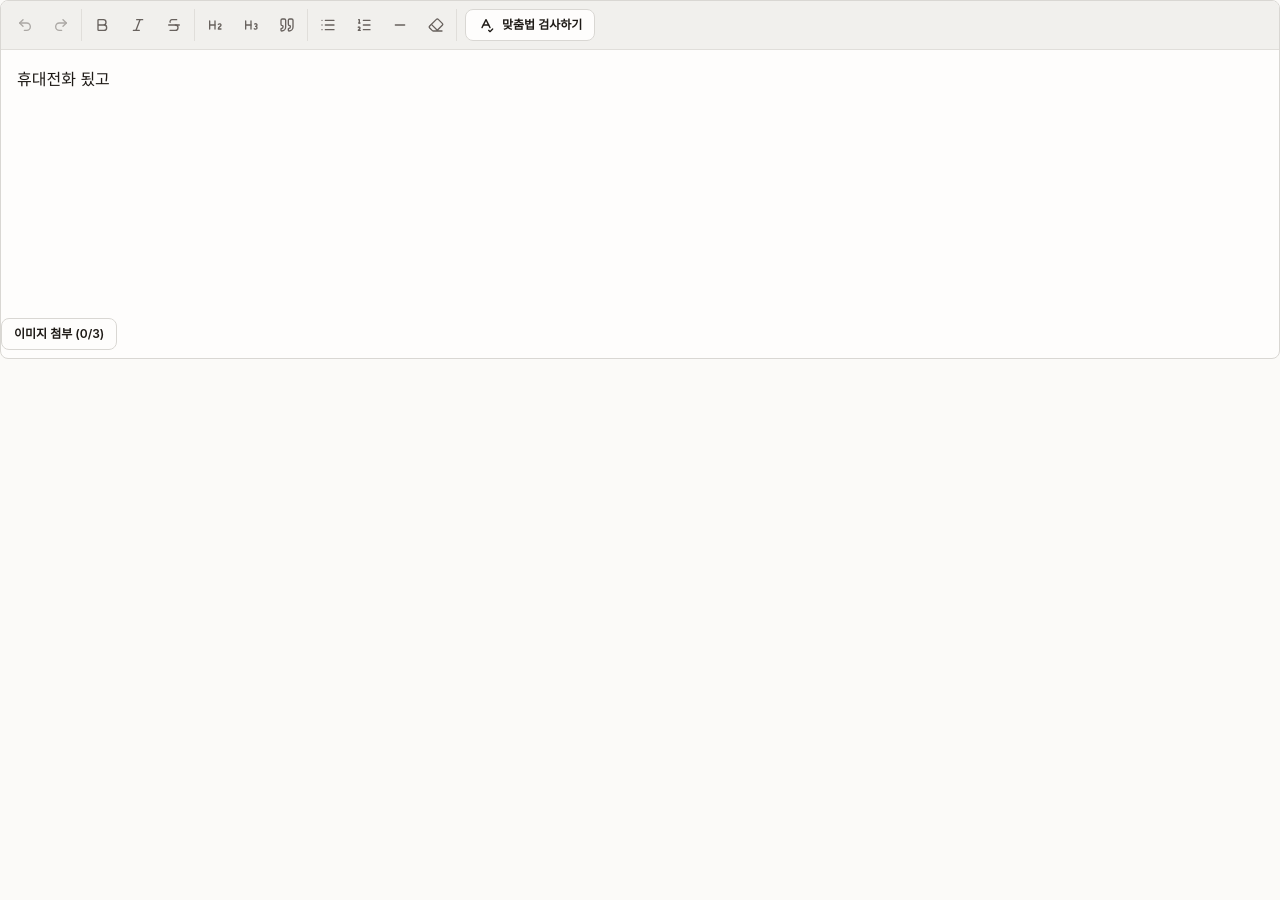
Test: real editor Enter › uses remapped decoration offsets after an earlier length-changing correction
The width and height of the screenshot is (1280, 900).
Click the button "맞춤법 검사하기" at (530, 25), box [465, 9, 595, 41]
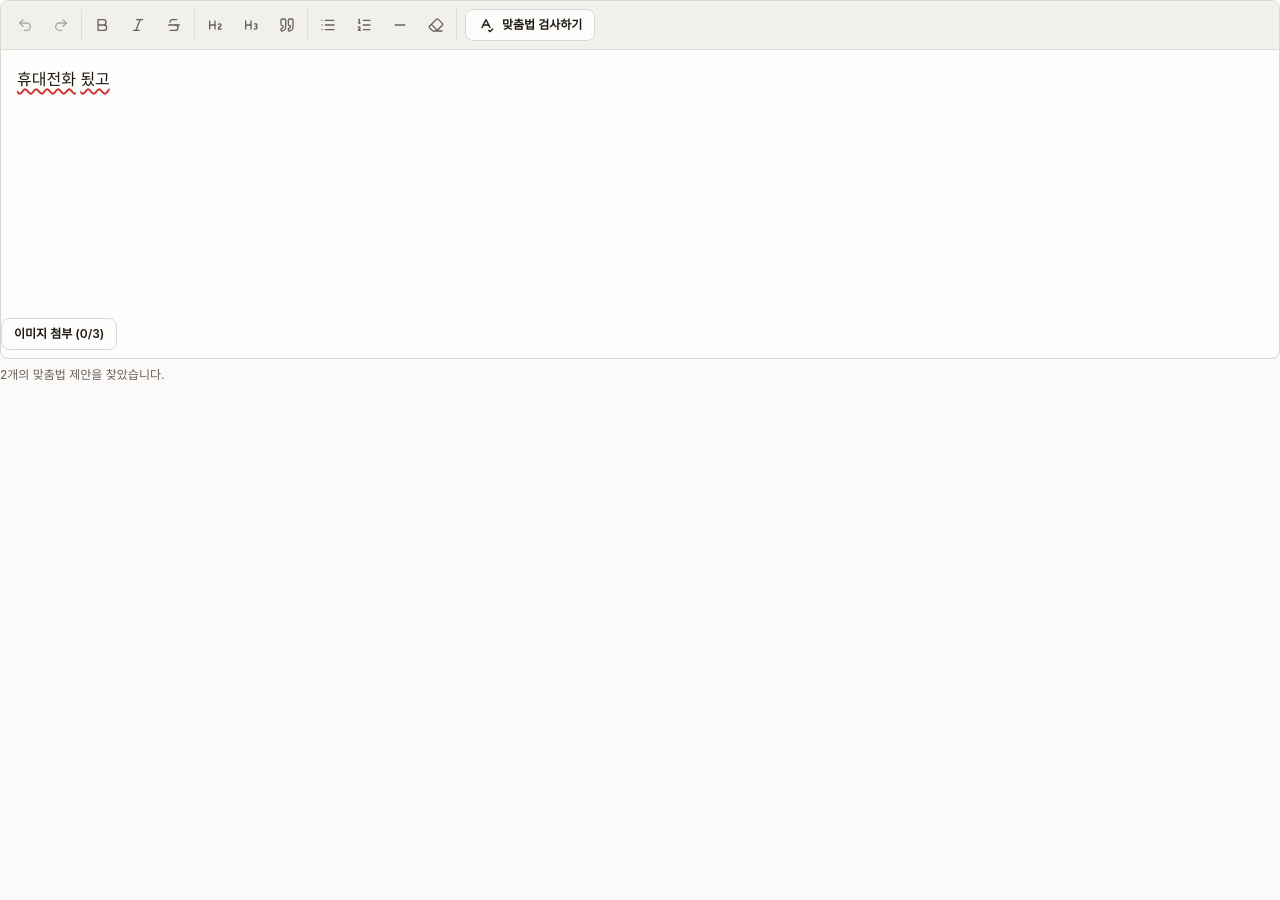
Click the button with aria-label "휴대전화: 휴대 전화으로 변경 제안" at (46, 79), box [17, 69, 76, 89]
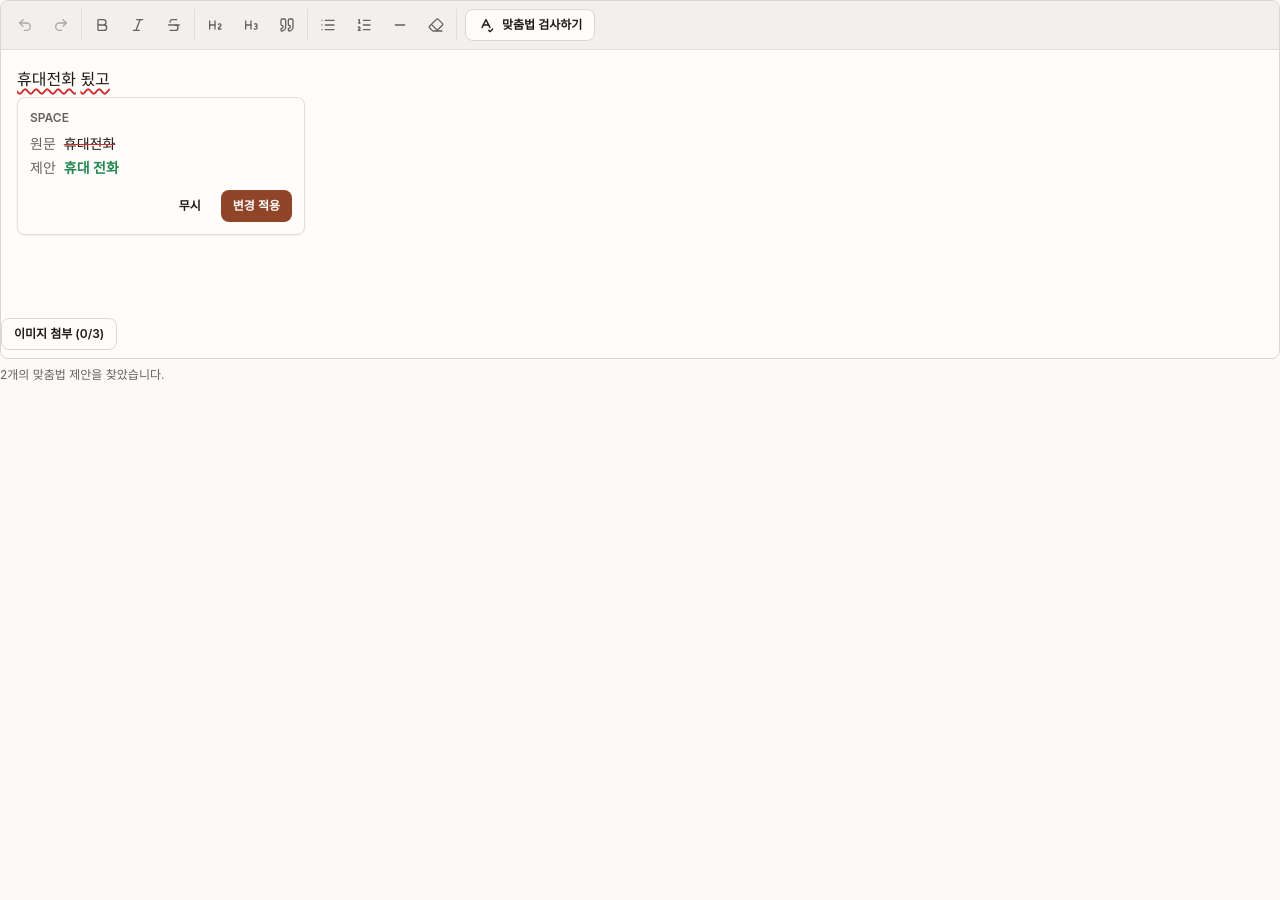
Click the button "변경 적용" at (256, 206), box [221, 190, 292, 222]
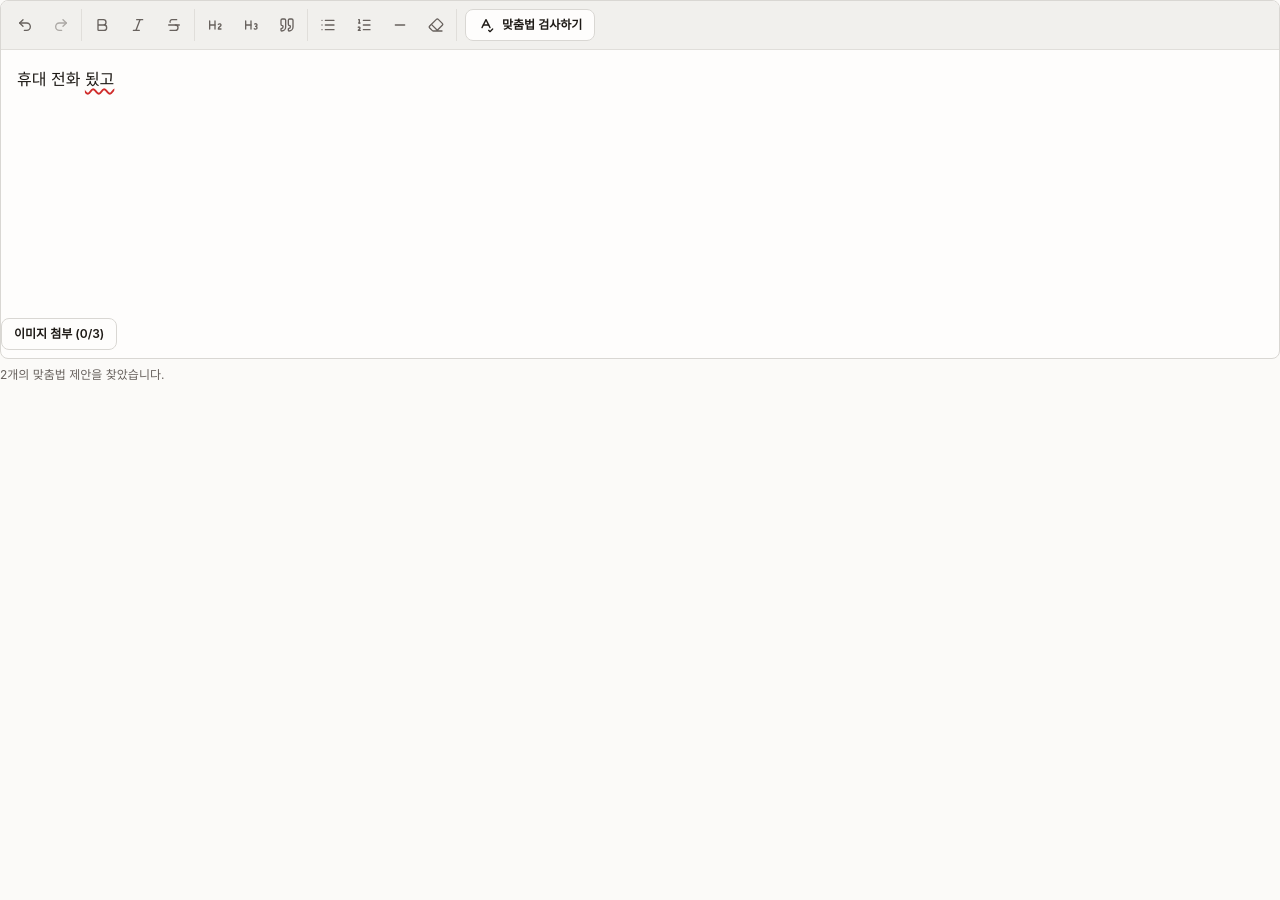
Click the button with aria-label "됬고: 됐고으로 변경 제안" at (100, 79), box [85, 69, 114, 89]
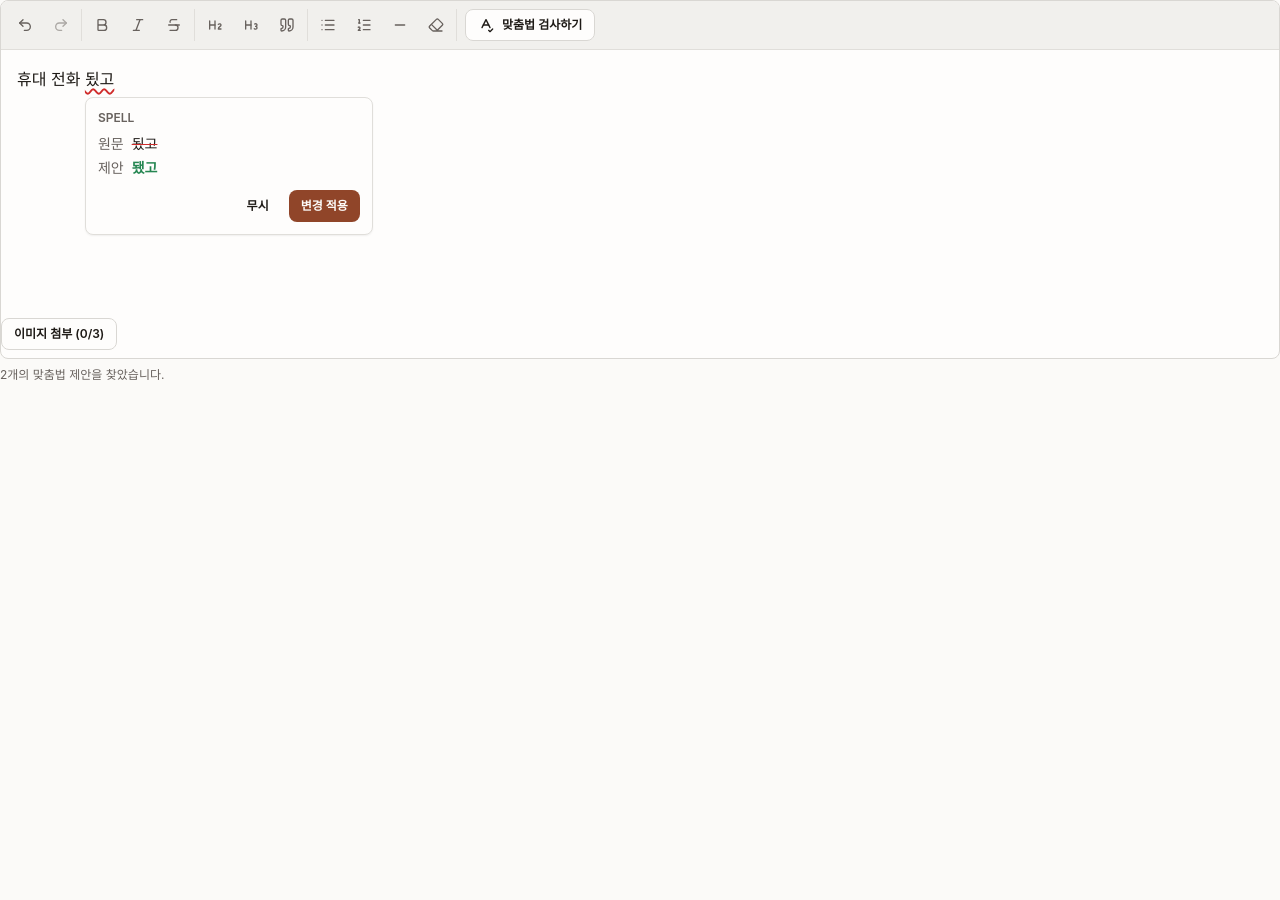
Click the button "변경 적용" at (324, 206), box [289, 190, 360, 222]
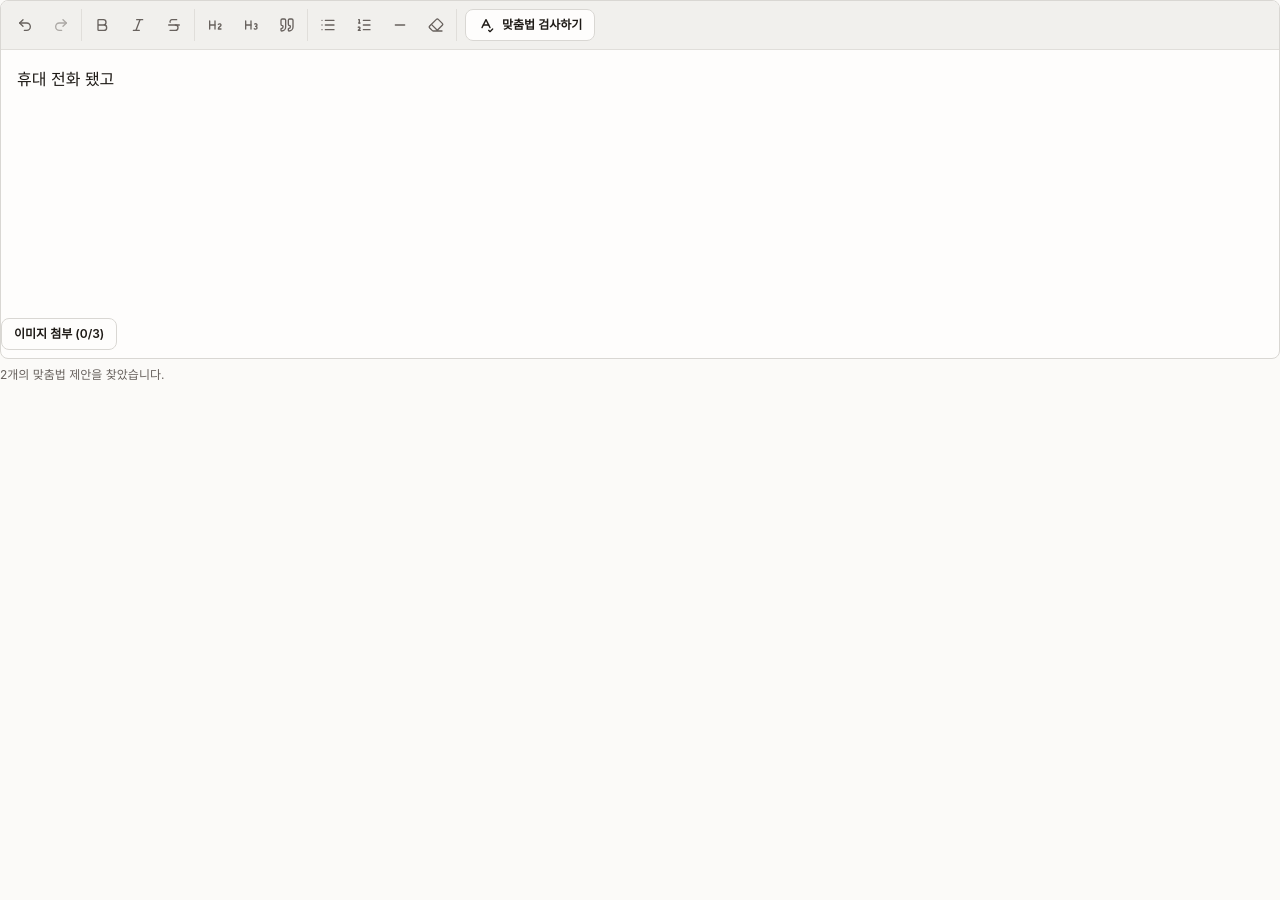
Result: the field named "독후감 본문" reads "휴대 전화 됐고" at [17, 69, 114, 89]
Result: the button with class "spellcheck-error" is gone
